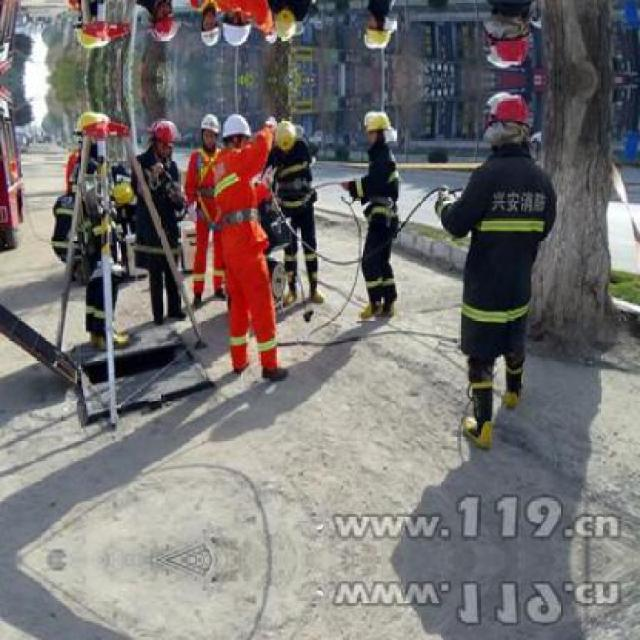helmet: (478, 92, 532, 145), (478, 15, 532, 68), (146, 115, 180, 156), (146, 4, 180, 45), (221, 114, 253, 151), (221, 9, 253, 46), (195, 110, 223, 148), (195, 12, 223, 50), (358, 111, 390, 144), (358, 16, 390, 49)
